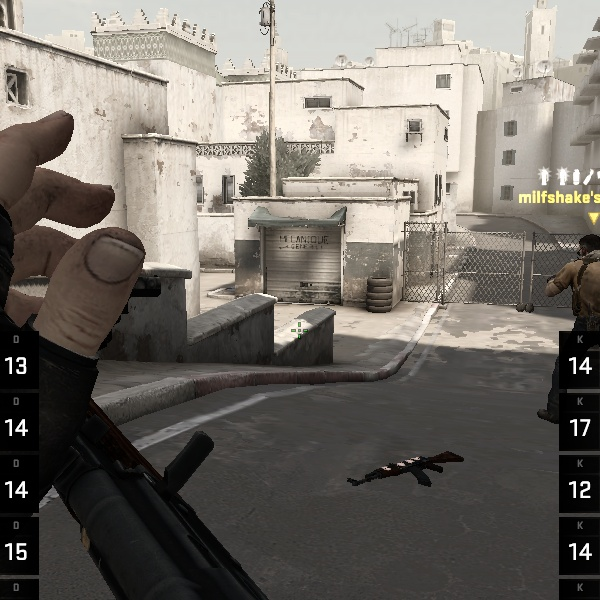ct_body: (2, 133, 220, 600)
ct_head: (11, 95, 184, 388)
t_head: (571, 227, 600, 273)
